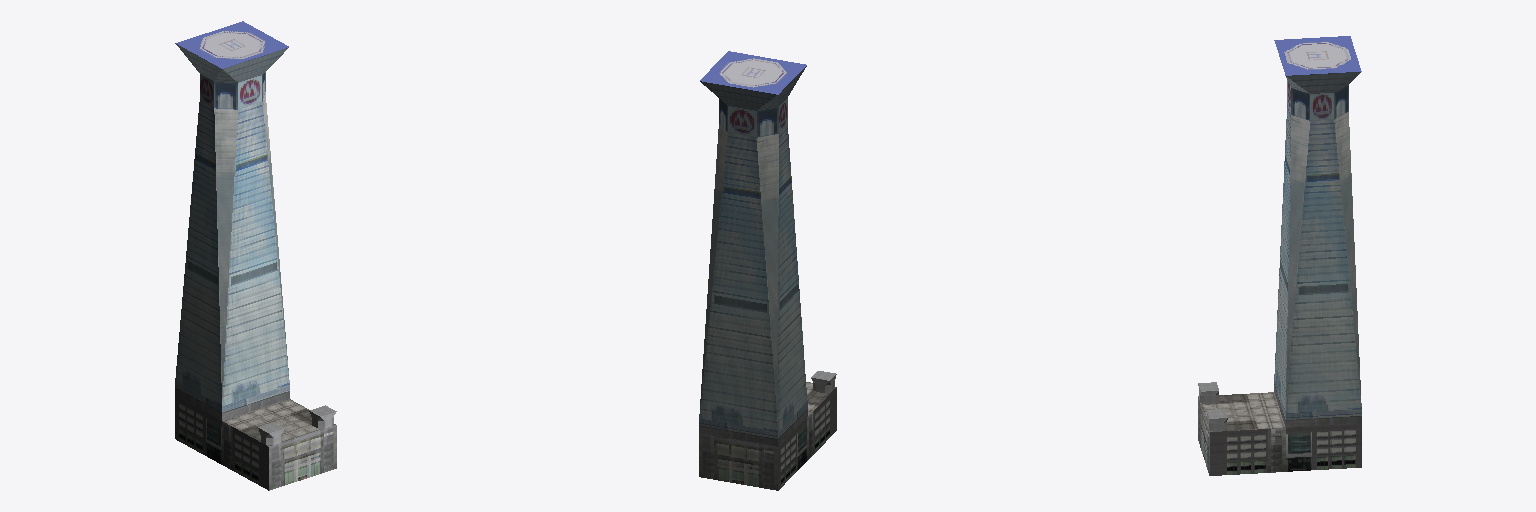
The picture shows the model from 3 angles: view 1: azimuth 30°, elevation 25°; view 2: azimuth 150°, elevation 25°; view 3: azimuth 270°, elevation 25°; orthographic projection.
Visible parts, largest first — view 1: Material__78; view 2: Material__78; view 3: Material__78.
Boxes of the visible parts, x1=… form: Material__78: x1=175, y1=21, x2=336, y2=490; Material__78: x1=699, y1=51, x2=836, y2=490; Material__78: x1=1198, y1=36, x2=1361, y2=475.
Bounding box in the file's own units: 56.96 × 237 × 88.7.
1 materials, 1 textured.